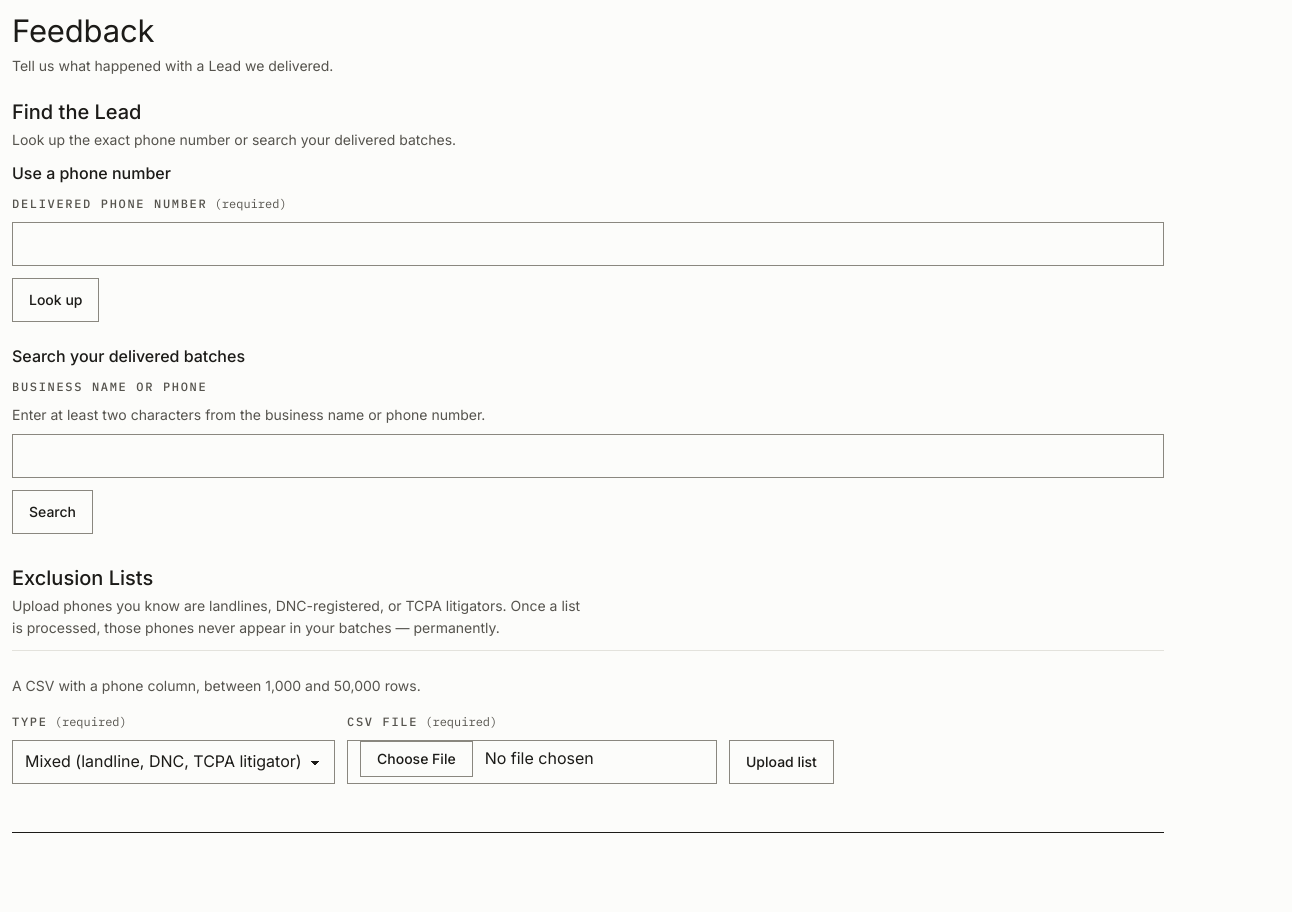
Scenario: privacy › ignores the response body for a phone that is not a phone number
In the field labelled "Delivered phone number (required)": x=588, y=244 [12,222,1164,266], type "2145559999"
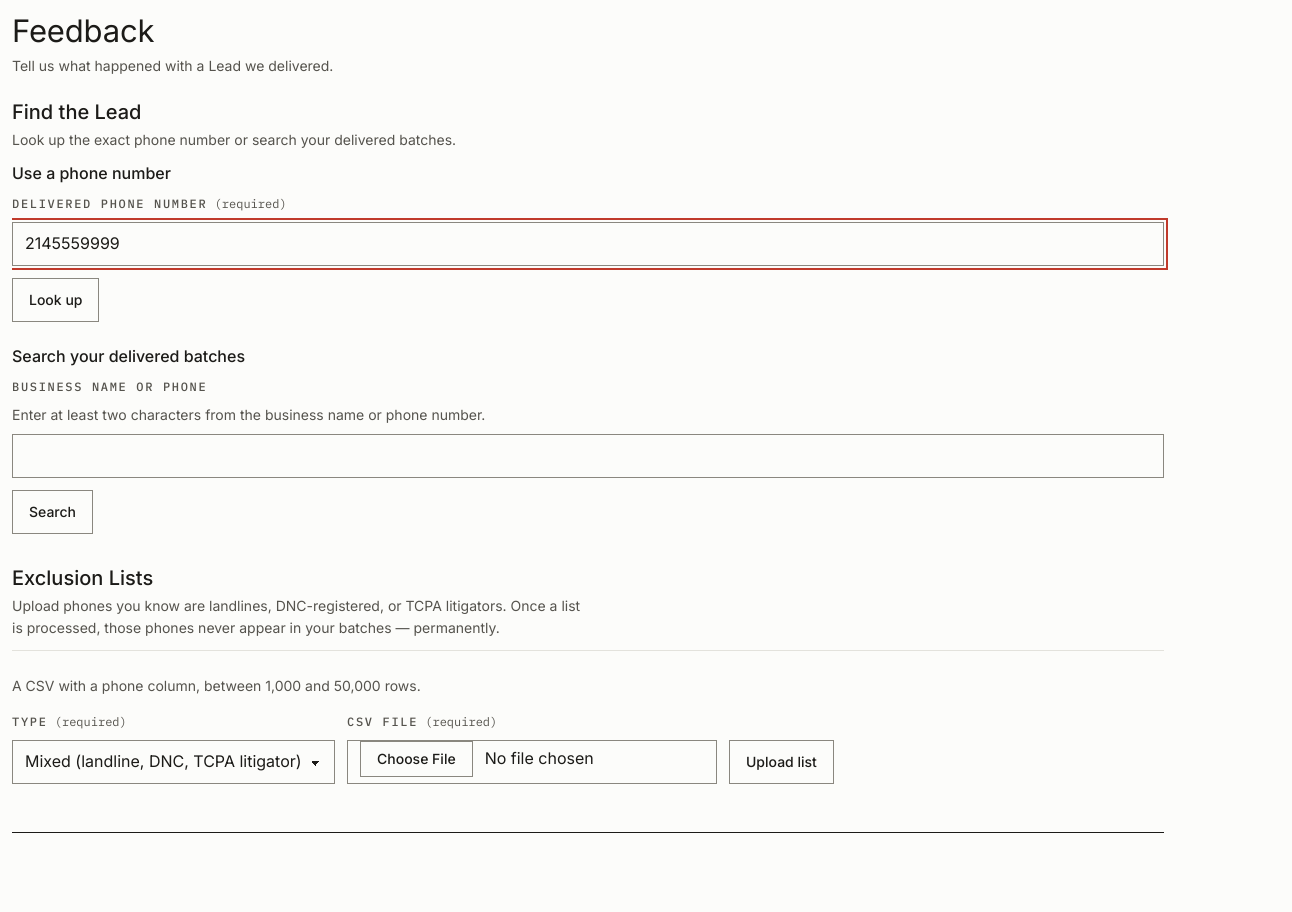
Click the button "Look up": x=56, y=300 [12,278,100,322]
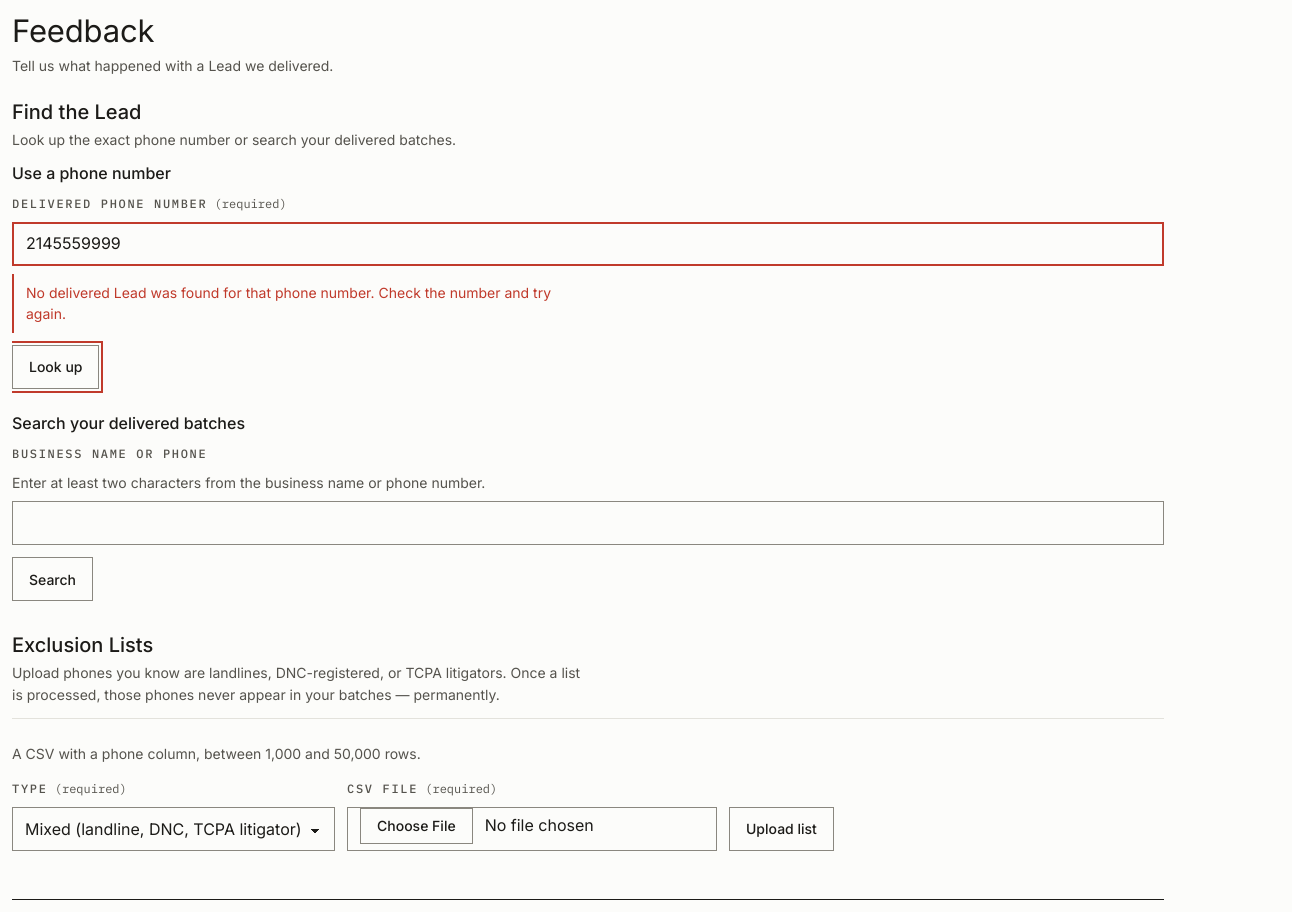
Check: the text "No delivered Lead was found for that phone number. Check the number and try again." is shown, box [26,284,551,322]
